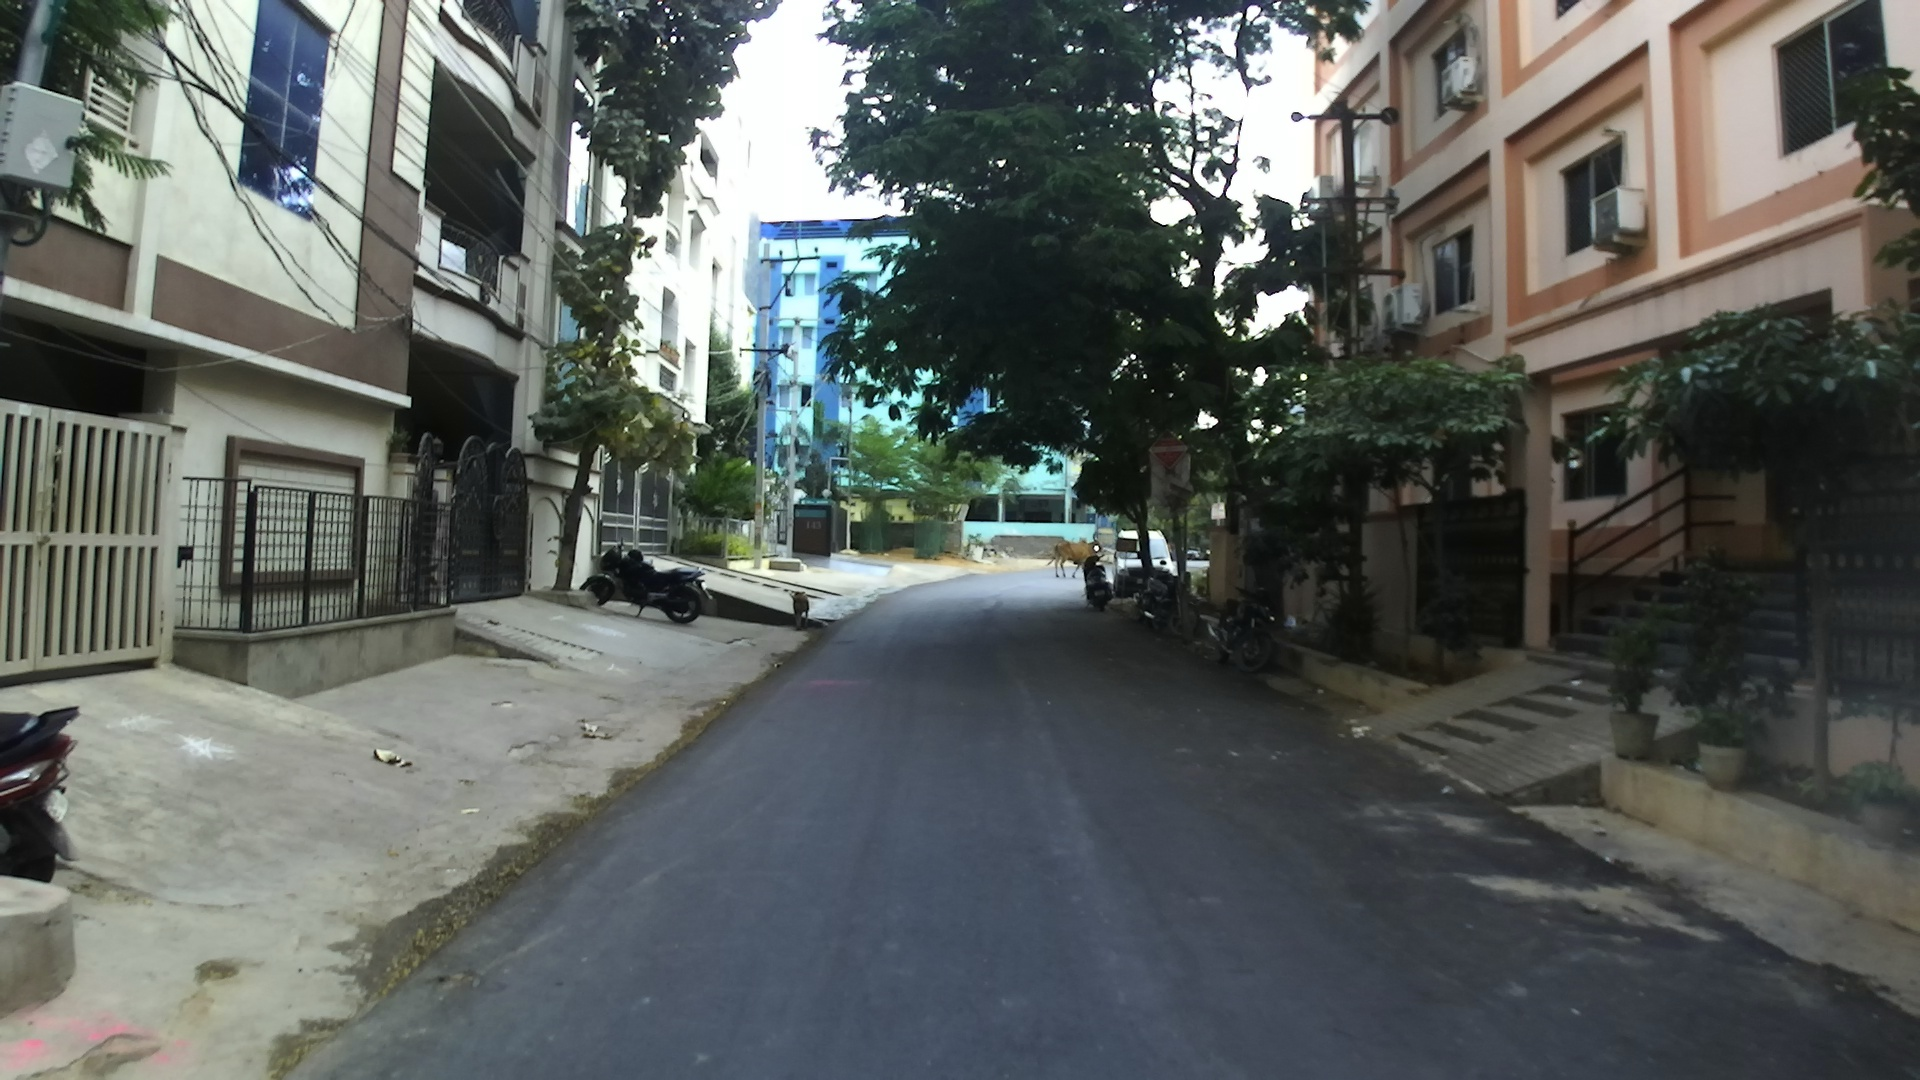vehicle: (582, 547, 705, 625)
